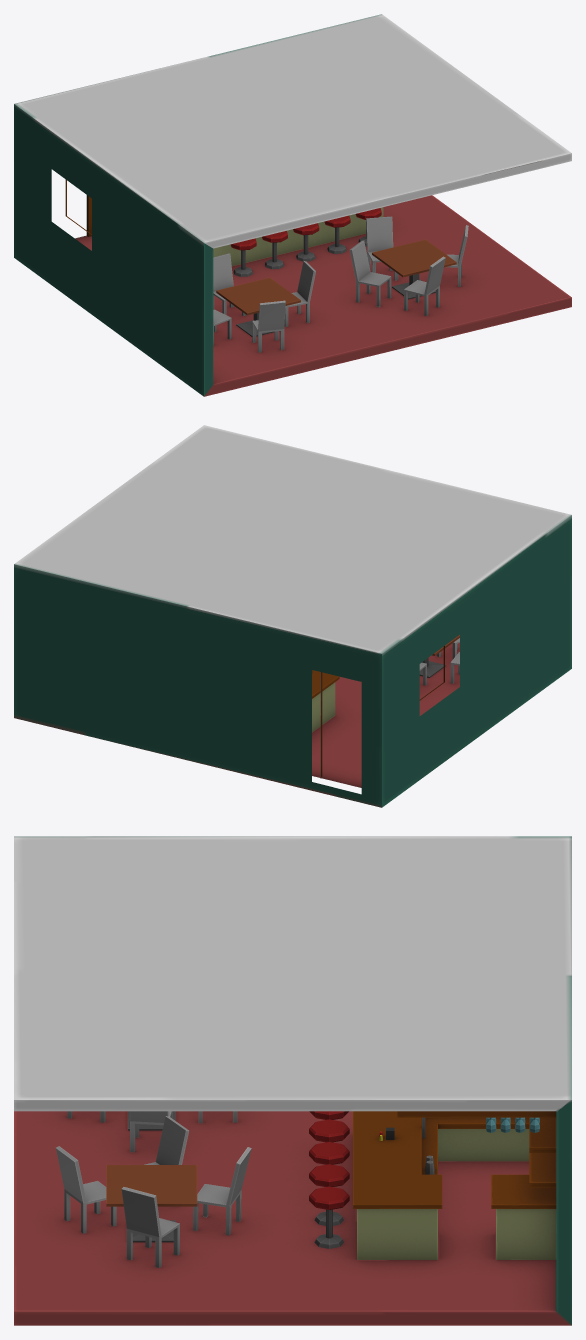
The model's file is bar_no_door.glb.
3 views of the same model, one above another, from view 1: azimuth 30°, elevation 25°; view 2: azimuth 150°, elevation 25°; view 3: azimuth 270°, elevation 25° (orthographic). The views are drawn at different scales.
Parts seen in each view (by area): view 1: Bar_mesh; view 2: Bar_mesh; view 3: Bar_mesh.
Boxes of the visible parts, x1=… form: Bar_mesh: x1=14, y1=14, x2=571, y2=396; Bar_mesh: x1=14, y1=425, x2=571, y2=807; Bar_mesh: x1=14, y1=836, x2=571, y2=1325.
Bounding box in the file's own units: 21.19 × 8.47 × 18.97.
Materials: 2 (2 with a texture image).
